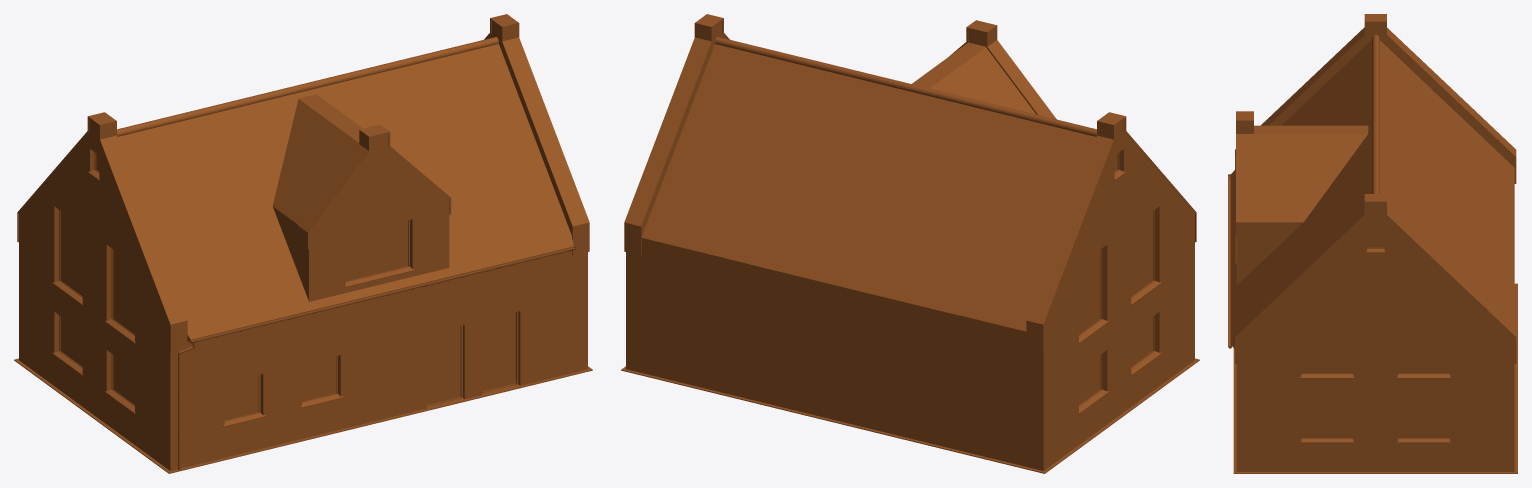
Rendered from hauscol.FBX.
3 renders of one model, left to right at view 1: azimuth 30°, elevation 25°; view 2: azimuth 150°, elevation 25°; view 3: azimuth 270°, elevation 25°, orthographic. The views are drawn at different scales.
Visible parts, largest first — view 1: hauscol_wand, hauscol_dachziegel, hauscol_fensterglas, hauscol_blech, hauscol_fensterrahmen, hauscol_fundament, hauscol_rinne; view 2: hauscol_dachziegel, hauscol_wand, hauscol_blech, hauscol_fensterglas, hauscol_holz, hauscol_fundament, hauscol_fensterrahmen; view 3: hauscol_wand, hauscol_dachziegel, hauscol_fensterglas, hauscol_blech, hauscol_fensterrahmen, hauscol_fundament, hauscol_rinne.
Part boxes in pixels (left/top/right/bottom): hauscol_wand: left=19, top=21, right=587, bottom=470; hauscol_dachziegel: left=117, top=37, right=573, bottom=341; hauscol_fensterglas: left=61, top=154, right=515, bottom=419; hauscol_blech: left=17, top=14, right=589, bottom=353; hauscol_fensterrahmen: left=52, top=152, right=518, bottom=426; hauscol_fundament: left=14, top=358, right=592, bottom=473; hauscol_rinne: left=178, top=246, right=576, bottom=470; hauscol_dachziegel: left=642, top=37, right=1096, bottom=331; hauscol_wand: left=626, top=21, right=1194, bottom=470; hauscol_blech: left=624, top=14, right=1196, bottom=353; hauscol_fensterglas: left=1079, top=154, right=1152, bottom=404; hauscol_holz: left=642, top=238, right=1026, bottom=342; hauscol_fundament: left=621, top=358, right=1199, bottom=473; hauscol_fensterrahmen: left=1078, top=152, right=1161, bottom=413; hauscol_wand: left=1236, top=23, right=1514, bottom=471; hauscol_dachziegel: left=1231, top=34, right=1514, bottom=348; hauscol_fensterglas: left=1304, top=230, right=1447, bottom=436; hauscol_blech: left=1235, top=14, right=1516, bottom=363; hauscol_fensterrahmen: left=1235, top=230, right=1451, bottom=442; hauscol_fundament: left=1233, top=283, right=1517, bottom=473; hauscol_rinne: left=1228, top=174, right=1231, bottom=348.
Size of the model in its own units: 138 by 91.89 by 88.94.
